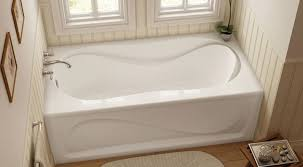bathub: (43, 27, 269, 166)
